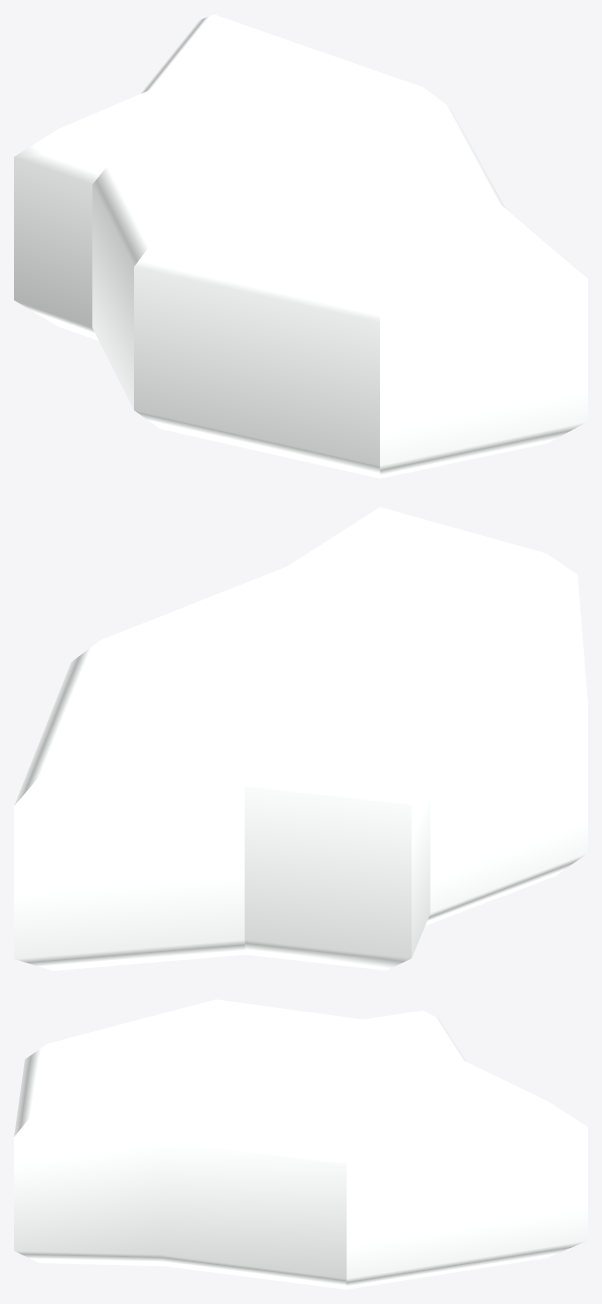
Rendered from ice_floe_small_011.glb.
3 views of the same model, one above another, from view 1: azimuth 30°, elevation 25°; view 2: azimuth 150°, elevation 25°; view 3: azimuth 270°, elevation 25° (orthographic). The views are drawn at different scales.
Parts seen in each view (by area): view 1: ice_floe_small_011; view 2: ice_floe_small_011; view 3: ice_floe_small_011.
Boxes of the visible parts, x1=… form: ice_floe_small_011: x1=14, y1=14, x2=587, y2=478; ice_floe_small_011: x1=14, y1=507, x2=587, y2=970; ice_floe_small_011: x1=14, y1=999, x2=587, y2=1289.
Size of the model in its own units: 1.48 by 0.6962 by 2.31.
Materials: 1 (1 with a texture image).
